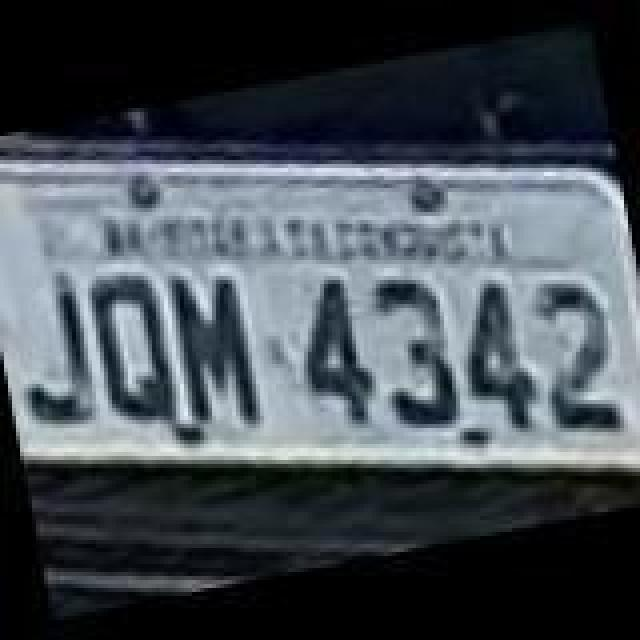2: (520, 272, 632, 448)
3: (358, 270, 466, 442)
4: (446, 264, 546, 440), (286, 266, 386, 438)
J: (2, 274, 110, 438)
M: (156, 256, 268, 440)
Q: (82, 264, 190, 440)
